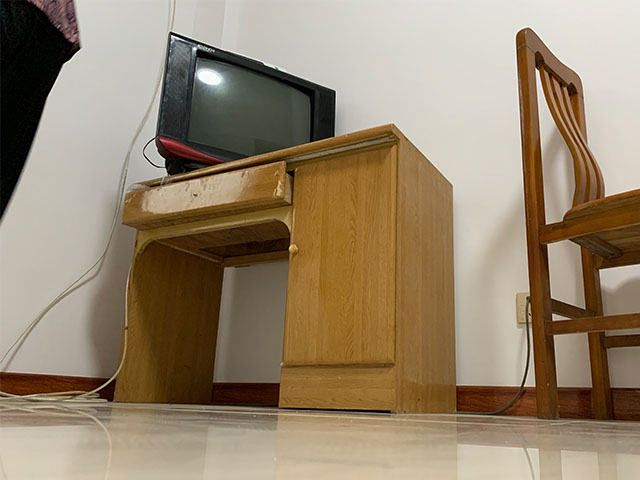stool: (514, 26, 640, 421)
table: (110, 122, 457, 416)
wire: (1, 1, 178, 404), (453, 294, 535, 416), (206, 402, 277, 406)
